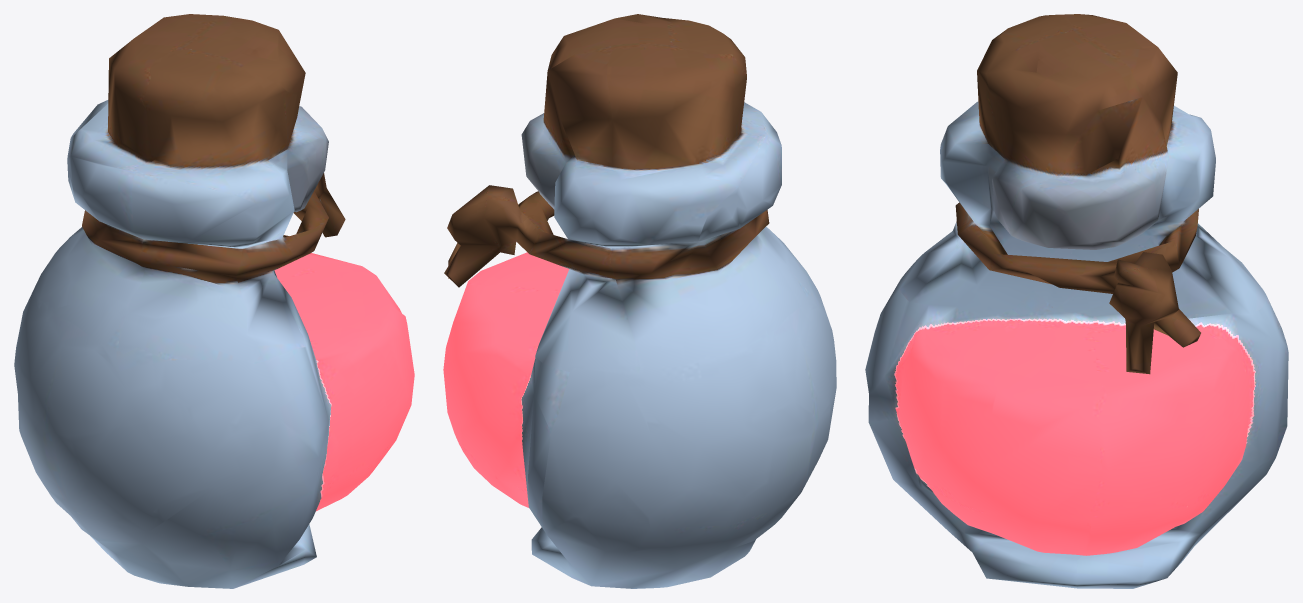
File: flask_life-mgvl8MqS.glb
3 renders of one model, left to right at view 1: azimuth 30°, elevation 25°; view 2: azimuth 150°, elevation 25°; view 3: azimuth 270°, elevation 25°, orthographic.
Visible parts, largest first — view 1: tripo_node_ef1bdf69-46a9-4cc0-95cd-b157eafb1047; view 2: tripo_node_ef1bdf69-46a9-4cc0-95cd-b157eafb1047; view 3: tripo_node_ef1bdf69-46a9-4cc0-95cd-b157eafb1047.
Boxes of the visible parts, box(x1,y1,x2,y2) form: tripo_node_ef1bdf69-46a9-4cc0-95cd-b157eafb1047: box(14, 14, 414, 588); tripo_node_ef1bdf69-46a9-4cc0-95cd-b157eafb1047: box(443, 14, 836, 588); tripo_node_ef1bdf69-46a9-4cc0-95cd-b157eafb1047: box(865, 14, 1288, 588).
Size of the model in its own units: 0.7194 by 1 by 0.7524.
Materials: 1 (1 with a texture image).
